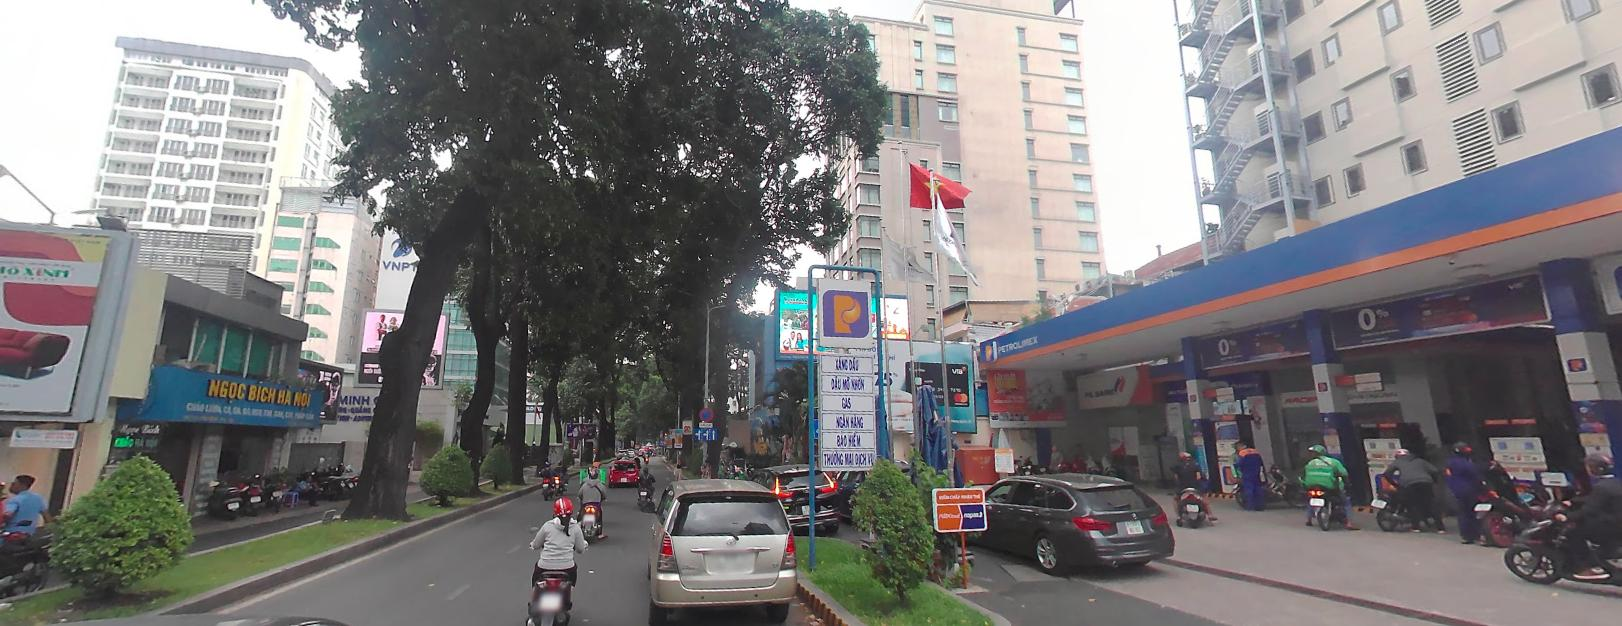Cam dung va do: (699, 406, 713, 420)
